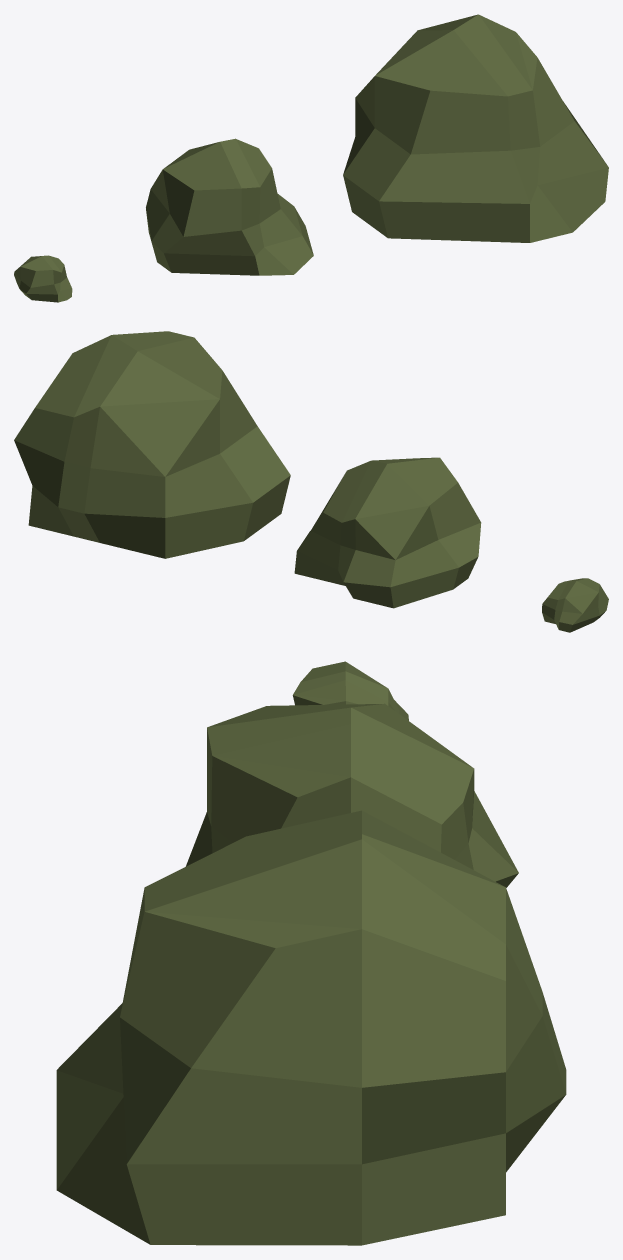
The model's file is bush.fbx.
3 views of the same model, one above another, from view 1: azimuth 30°, elevation 25°; view 2: azimuth 150°, elevation 25°; view 3: azimuth 270°, elevation 25° (orthographic). The views are drawn at different scales.
Parts seen in each view (by area): view 1: bush, bush1, bush2; view 2: bush, bush1, bush2; view 3: bush, bush1, bush2.
Part boxes in pixels (box(x1,y1,x2,y2)): bush: box(343, 14, 608, 242); bush1: box(146, 138, 313, 275); bush2: box(14, 255, 72, 302); bush: box(14, 331, 290, 558); bush1: box(294, 457, 481, 608); bush2: box(542, 578, 608, 632); bush: box(56, 810, 566, 1245); bush1: box(186, 703, 518, 887); bush2: box(292, 661, 408, 720).
Size of the model in its own units: 708 by 210 by 291.
